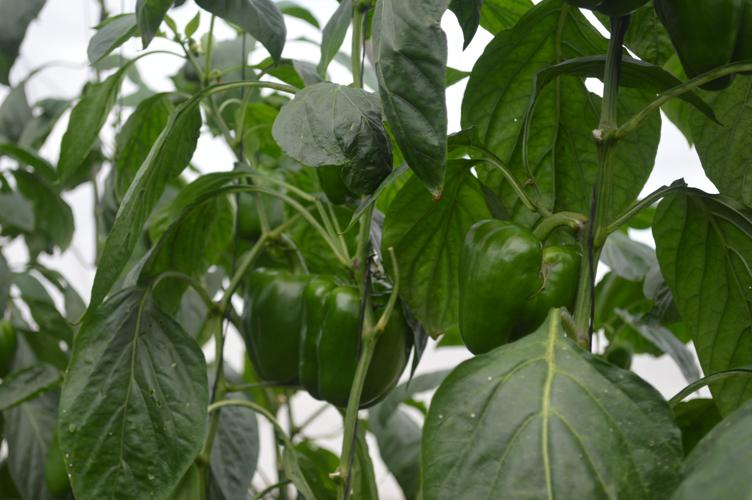BellPepper: (450, 218, 586, 351), (306, 276, 420, 410), (245, 268, 308, 388)
